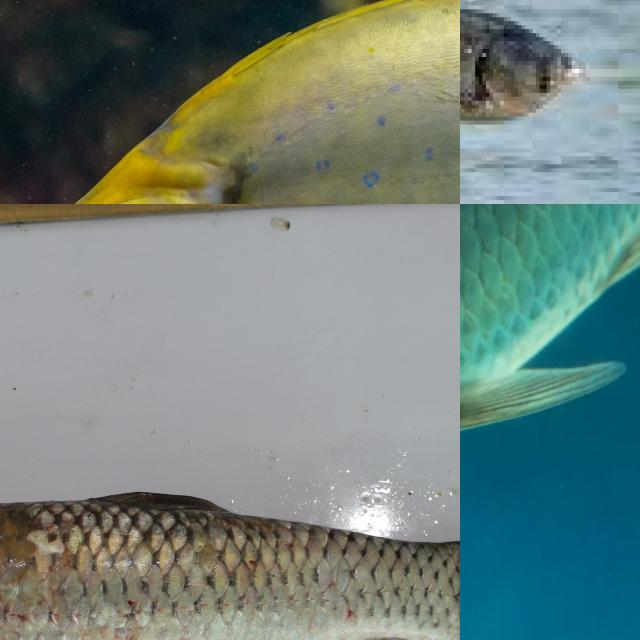fish: (0, 0, 460, 204), (460, 221, 640, 640), (0, 477, 460, 640), (460, 0, 640, 204)
